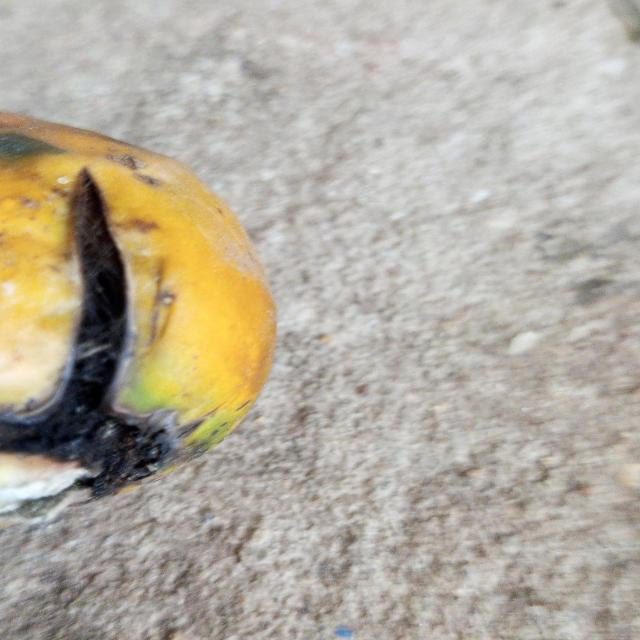damaged: (0, 111, 276, 516)
